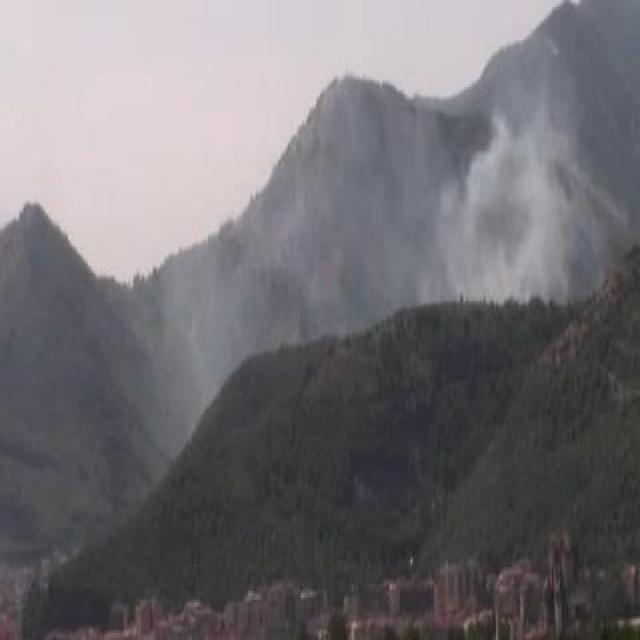Smoke: (397, 95, 582, 300)
